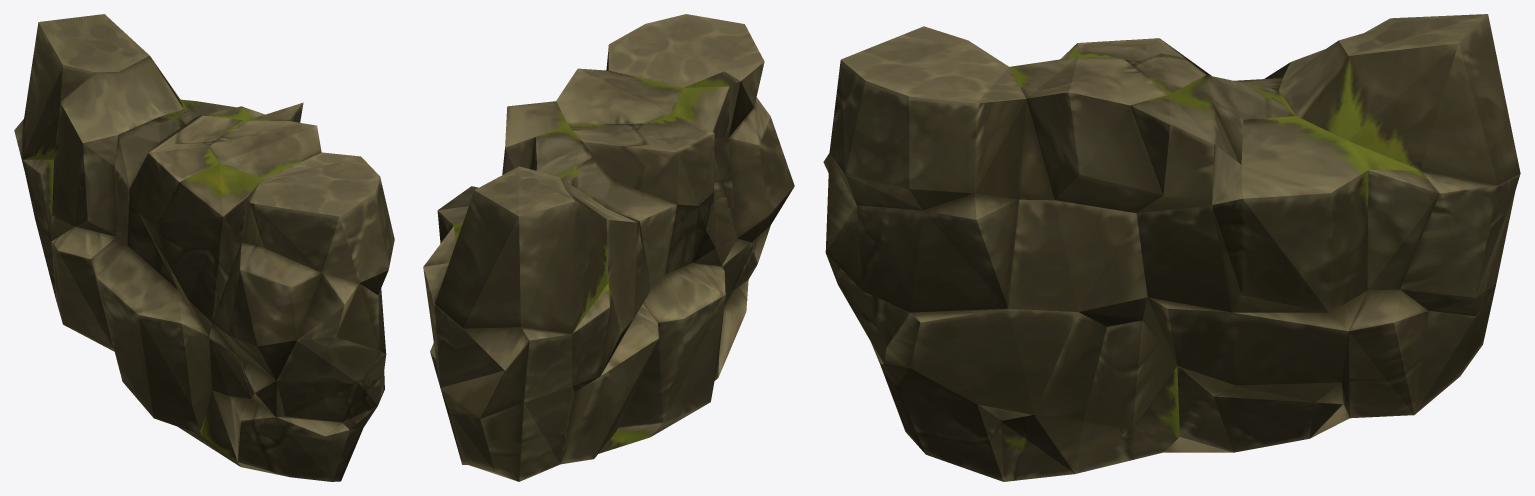
Rendered from ShanShiA_01.fbx.
3 renders of one model, left to right at view 1: azimuth 30°, elevation 25°; view 2: azimuth 150°, elevation 25°; view 3: azimuth 270°, elevation 25°, orthographic. The views are drawn at different scales.
Visible parts, largest first — view 1: ShanShiA_01; view 2: ShanShiA_01; view 3: ShanShiA_01.
Part boxes in pixels (<box>): ShanShiA_01: <box>14,14,394,481</box>; ShanShiA_01: <box>423,14,794,481</box>; ShanShiA_01: <box>823,14,1520,481</box>.
Bounding box in the file's own units: 524 × 820 × 1261.
